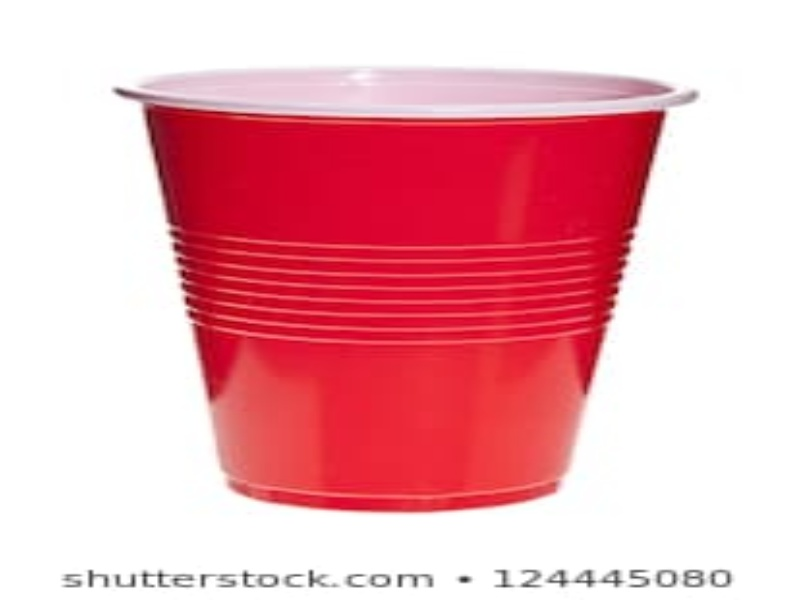plastic-cup: (112, 66, 701, 514)
